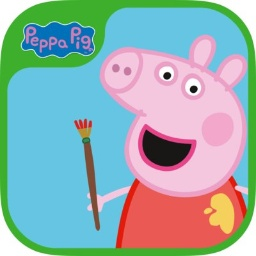Peppa: (87, 34, 249, 248)
